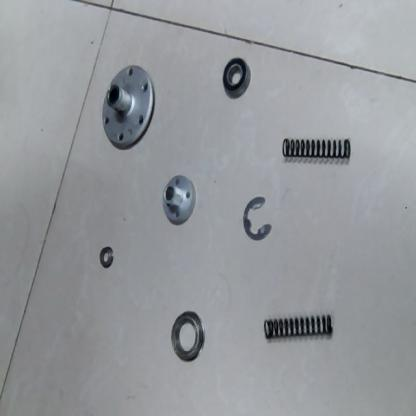FOD: (2, 1, 416, 413), (99, 61, 156, 154), (261, 310, 336, 345), (168, 307, 210, 369), (277, 133, 355, 165), (159, 172, 197, 228), (240, 194, 274, 245), (221, 54, 252, 103), (98, 243, 115, 269)
